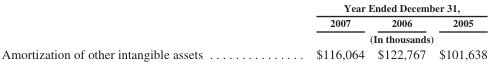table: (0, 1, 486, 60)
table column: (0, 1, 258, 60), (258, 1, 370, 60), (370, 1, 431, 60), (431, 1, 486, 60)
table column header: (0, 1, 486, 45)
table row: (0, 15, 486, 30), (0, 30, 486, 45), (0, 45, 486, 60), (0, 1, 486, 15)
table spanning cell: (258, 30, 486, 45), (258, 1, 486, 15)
